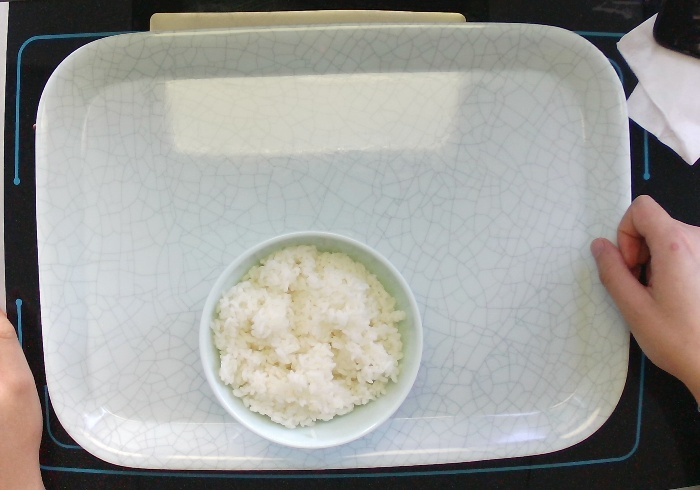JYsf-Fan_Wan: (196, 226, 427, 450)
